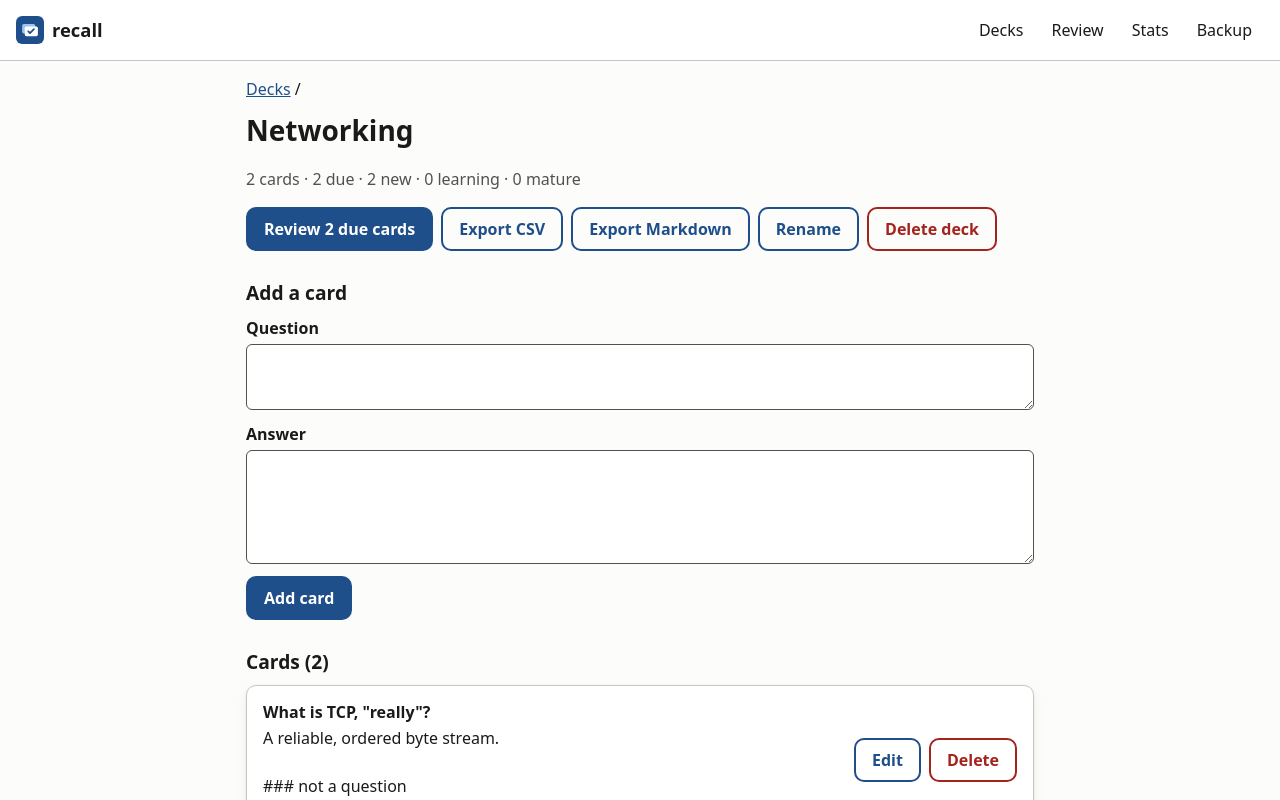
Test case: DeckView › reports a failed delete in the banner and stays on the deck
The image size is (1280, 800).
Check: the heading "Networking" is shown, box [246,111,414,149]
Click the button "Delete deck" at [932, 229], box [867,207,997,251]
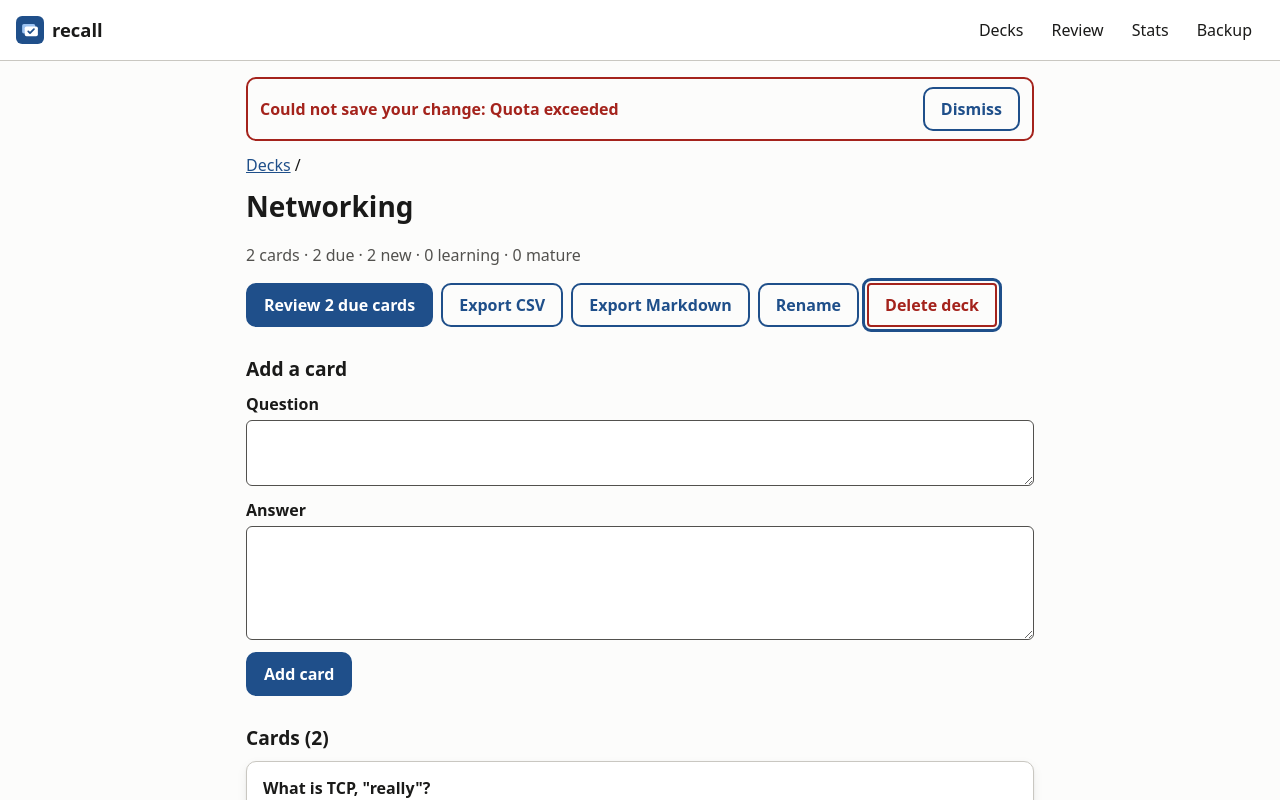
Check: the heading "Networking" is shown, box [246,187,414,225]
Check: the text "Could not save your change: Quota exceeded" is shown, box [260,97,619,121]
